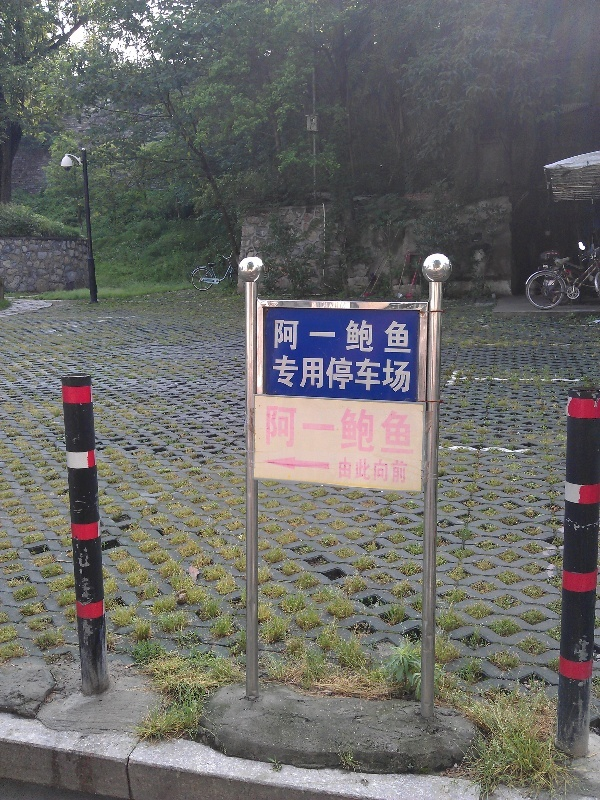text: (273, 404, 288, 457), (289, 404, 304, 457), (305, 404, 320, 457), (321, 404, 336, 457), (337, 404, 352, 457), (353, 404, 368, 457), (369, 404, 384, 457), (385, 404, 400, 457), (401, 404, 415, 457), (273, 354, 288, 395), (289, 354, 304, 395), (305, 354, 320, 395), (321, 354, 336, 395), (337, 354, 352, 395), (353, 354, 368, 395), (369, 354, 384, 395), (385, 354, 400, 395), (273, 318, 288, 355), (289, 318, 304, 355), (305, 318, 320, 355), (321, 318, 336, 355), (337, 318, 352, 355), (353, 318, 368, 355), (369, 318, 384, 355), (385, 318, 400, 355), (401, 354, 414, 395), (401, 318, 414, 355), (353, 456, 368, 486), (369, 456, 384, 486), (385, 456, 400, 486), (338, 456, 352, 486), (266, 404, 272, 457), (401, 456, 410, 486)
